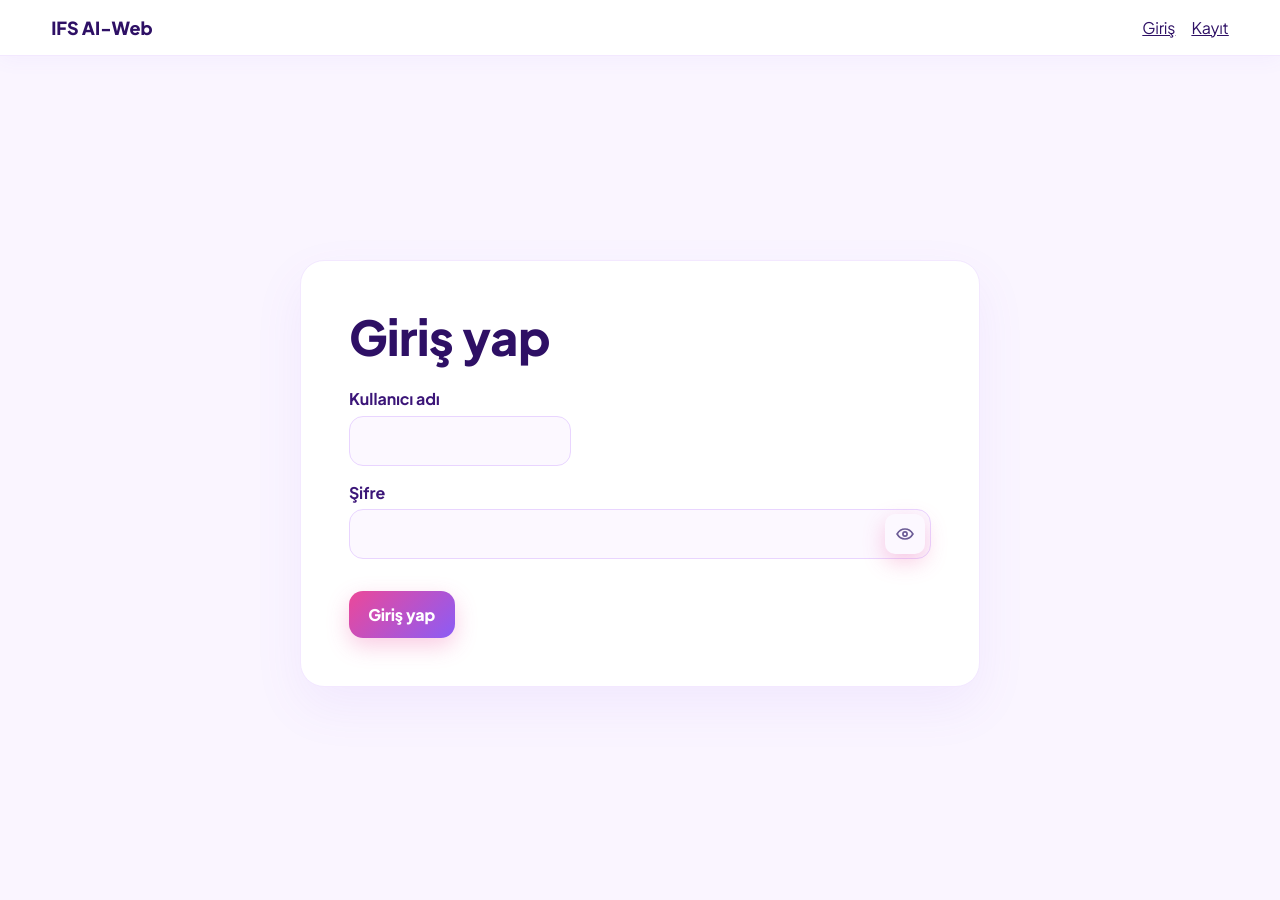
Test: Phase 2 authentication UI › shows generic login failure
This screenshot has width=1280, height=900.
Type "someone" into the field labelled "Kullanıcı adı".
click(460, 441); type("someone")  # box [349,416,571,466]
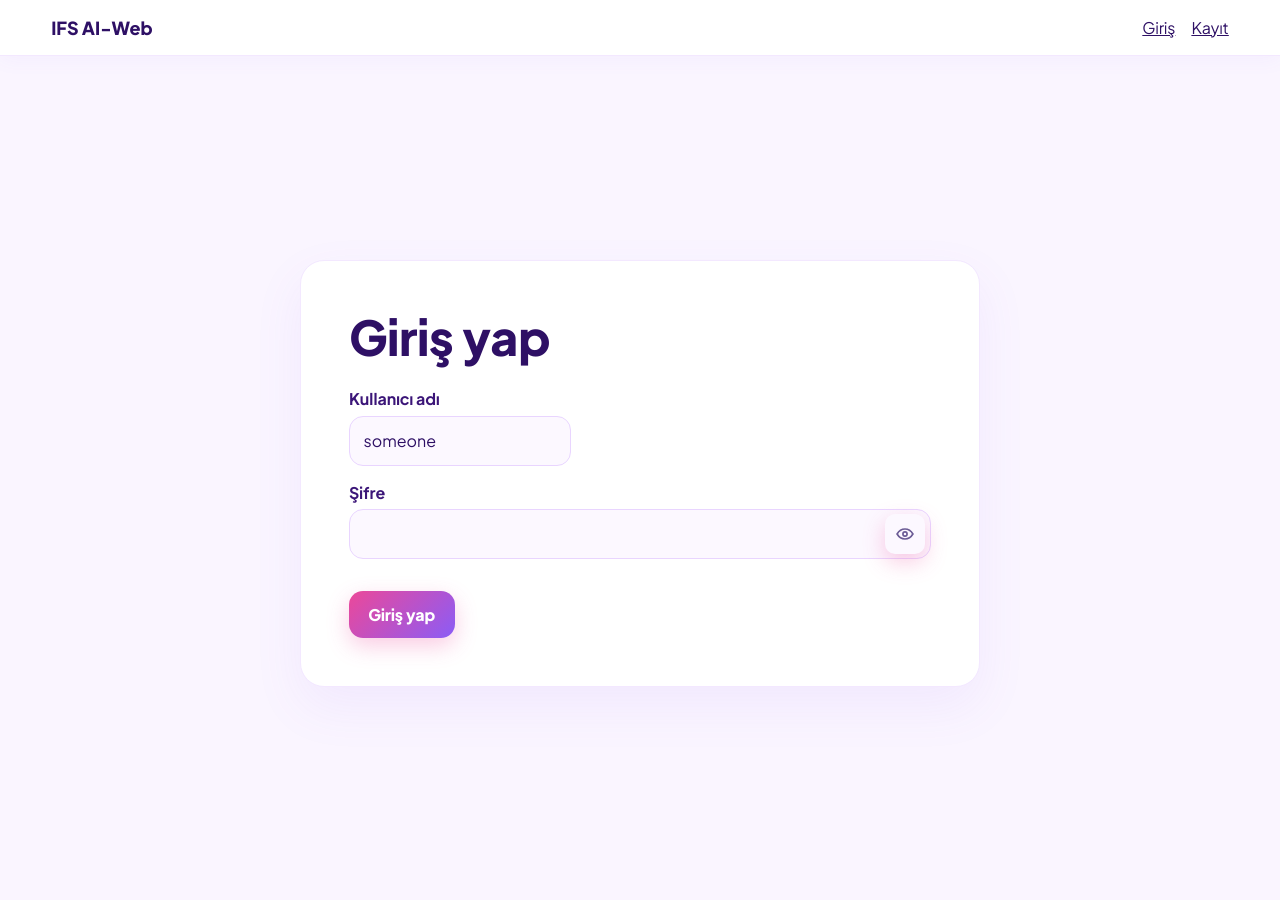
Type "wrong-password" into the password field labelled "Şifre".
click(640, 534); type("wrong-password")  # box [349,509,931,559]
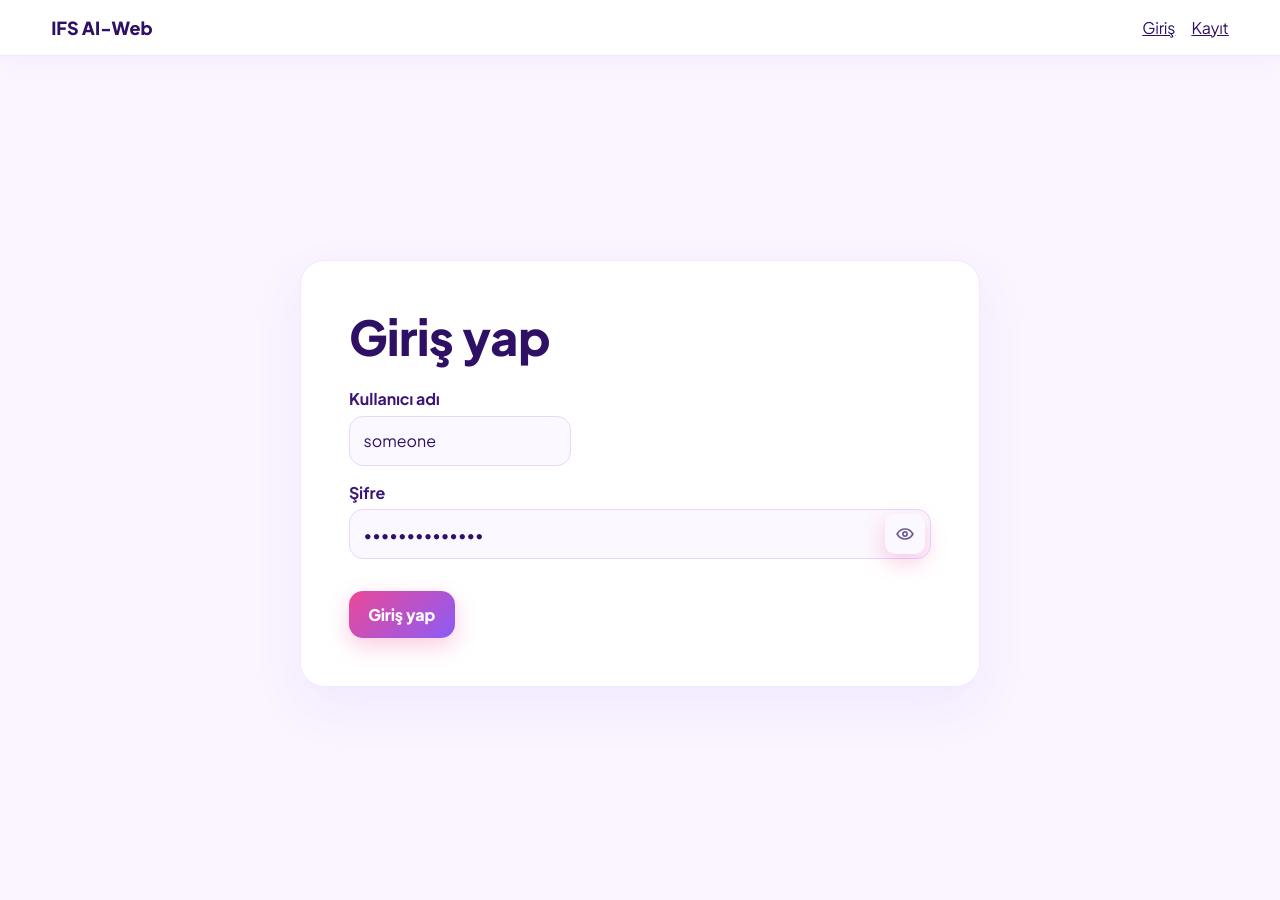
Click the button "Giriş yap".
click(402, 615)  # box [349,591,455,638]
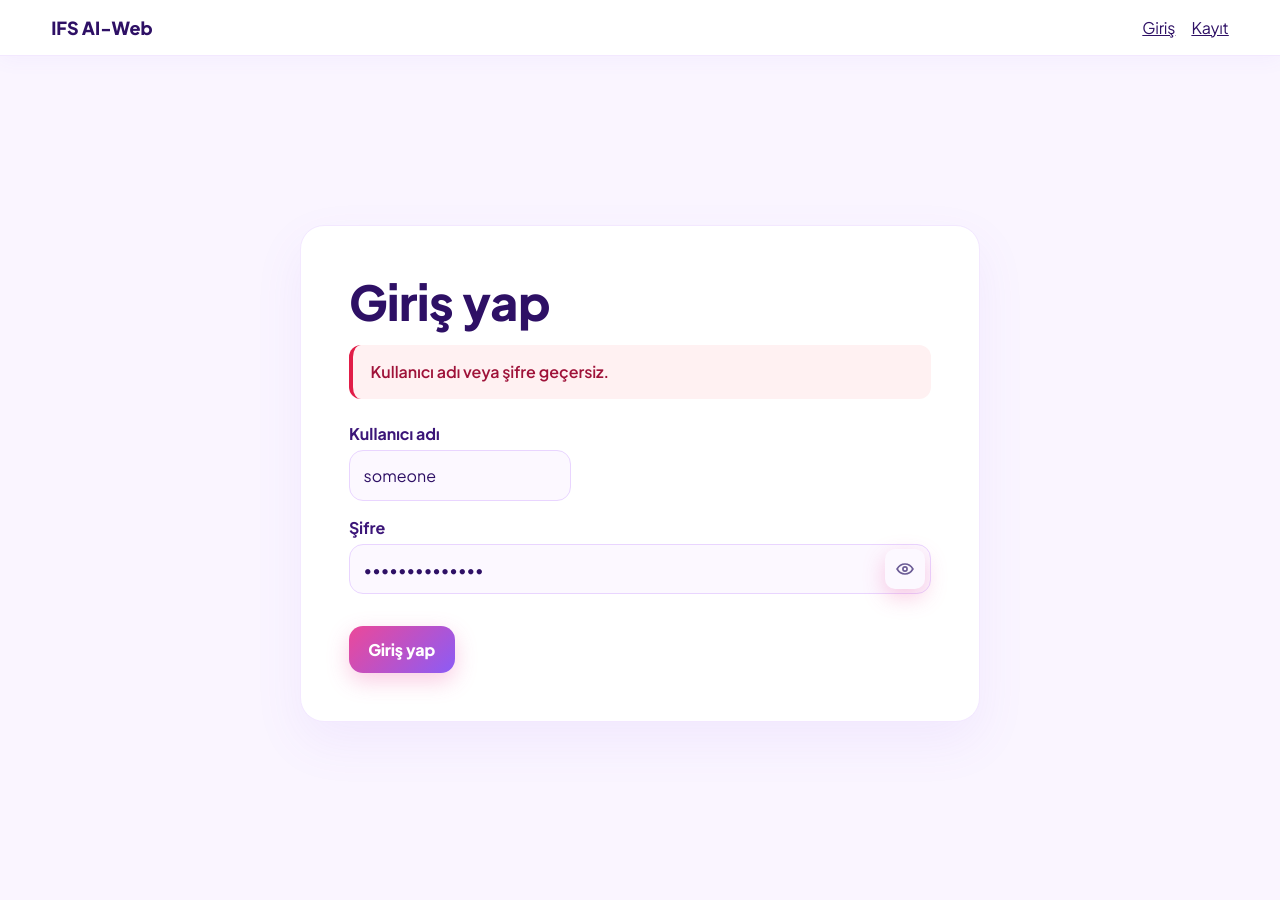
Check: the message shows "Kullanıcı adı veya şifre geçersiz", box [371,361,609,382]
